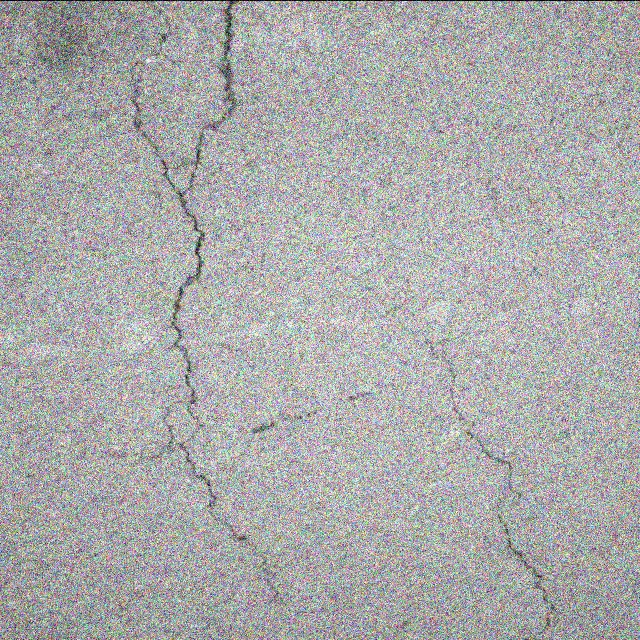SurfaceCrack: (96, 0, 334, 640), (371, 6, 600, 640)
